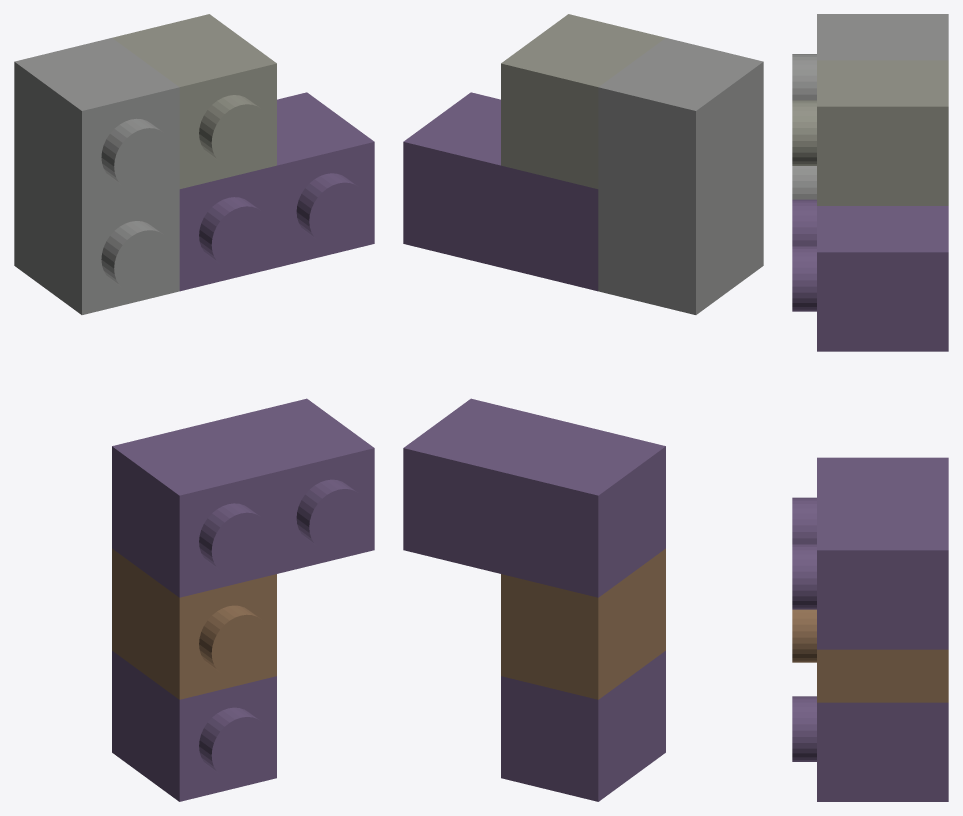
The model's file is current.glb.
The picture shows the model from 3 angles, left to right: view 1: azimuth 30°, elevation 25°; view 2: azimuth 150°, elevation 25°; view 3: azimuth 270°, elevation 25°; orthographic projection. The views are drawn at different scales.
Visible parts, largest first — view 1: world; view 2: world; view 3: world.
Part boxes in pixels (bbox=[...]): world: bbox=[14, 14, 374, 801]; world: bbox=[403, 14, 763, 801]; world: bbox=[792, 14, 948, 801].
Bounding box in the file's own units: 24 × 56 × 11.4.
